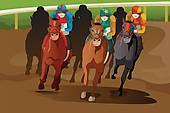horse: (109, 19, 141, 100), (78, 19, 107, 105), (41, 15, 65, 93)
person: (92, 5, 117, 41), (50, 3, 74, 39), (124, 4, 147, 40)
